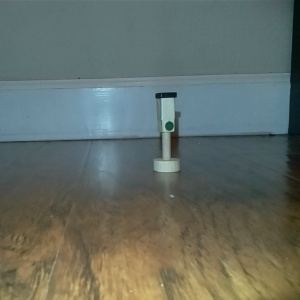traffic light green: (151, 88, 181, 174)
